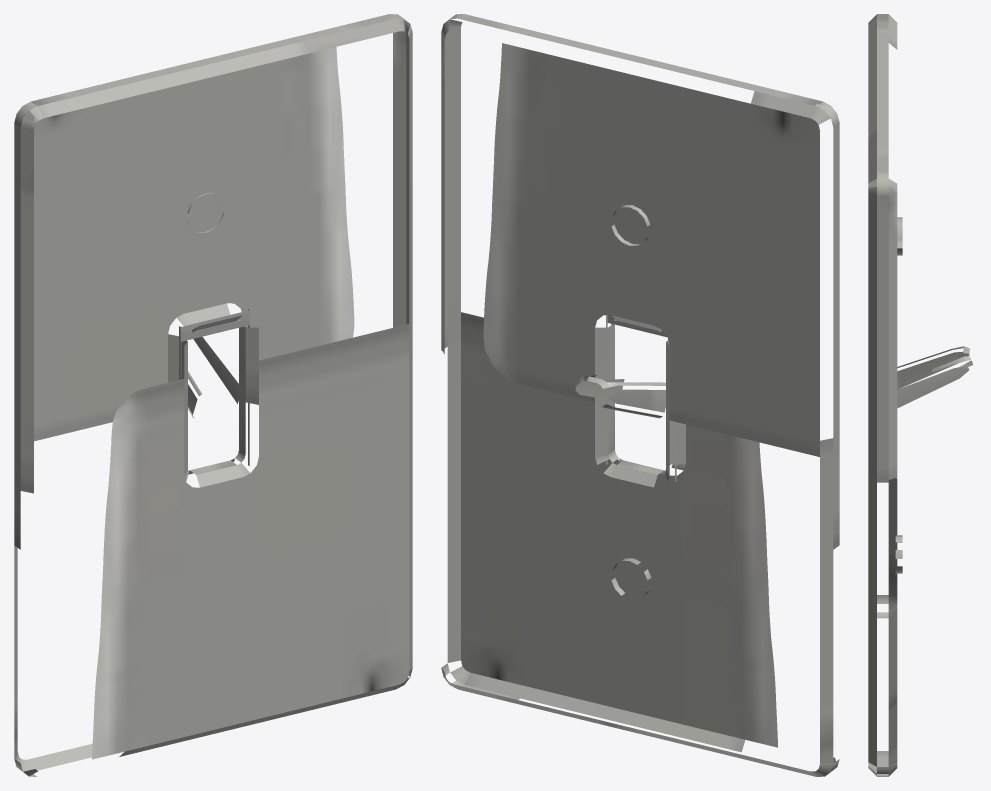
3 renders of one model, left to right at view 1: azimuth 30°, elevation 25°; view 2: azimuth 150°, elevation 25°; view 3: azimuth 270°, elevation 25°, orthographic. The views are drawn at different scales.
Parts seen in each view (by area): view 1: plate, device, handle_on; view 2: plate, handle_on; view 3: plate, handle_on, screw_0.
Boxes of the visible parts, left/top/right/bottom form: plate: left=14, top=14, right=412, bottom=776; device: left=179, top=309, right=249, bottom=465; handle_on: left=188, top=336, right=242, bottom=418; plate: left=441, top=14, right=839, bottom=776; handle_on: left=575, top=374, right=665, bottom=418; plate: left=868, top=14, right=897, bottom=776; handle_on: left=897, top=346, right=972, bottom=408; screw_0: left=897, top=217, right=902, bottom=255.
Size of the model in its own units: 0.1049 by 0.1714 by 0.028.
